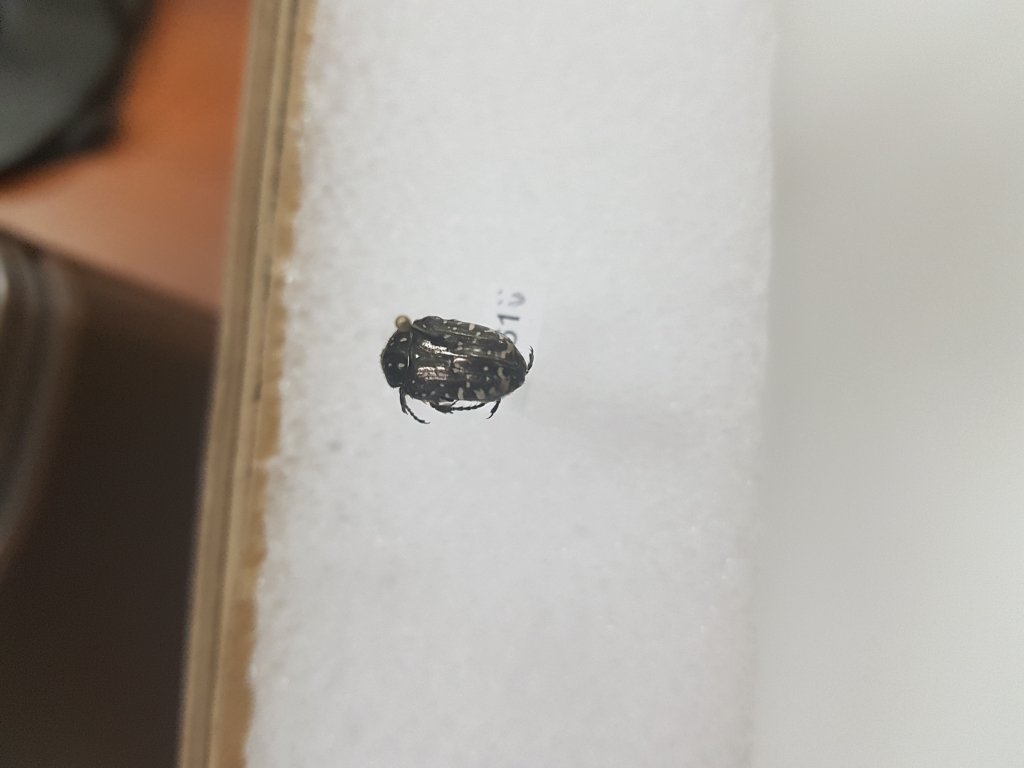Oxythyrea_funesta: (373, 314, 539, 423)
